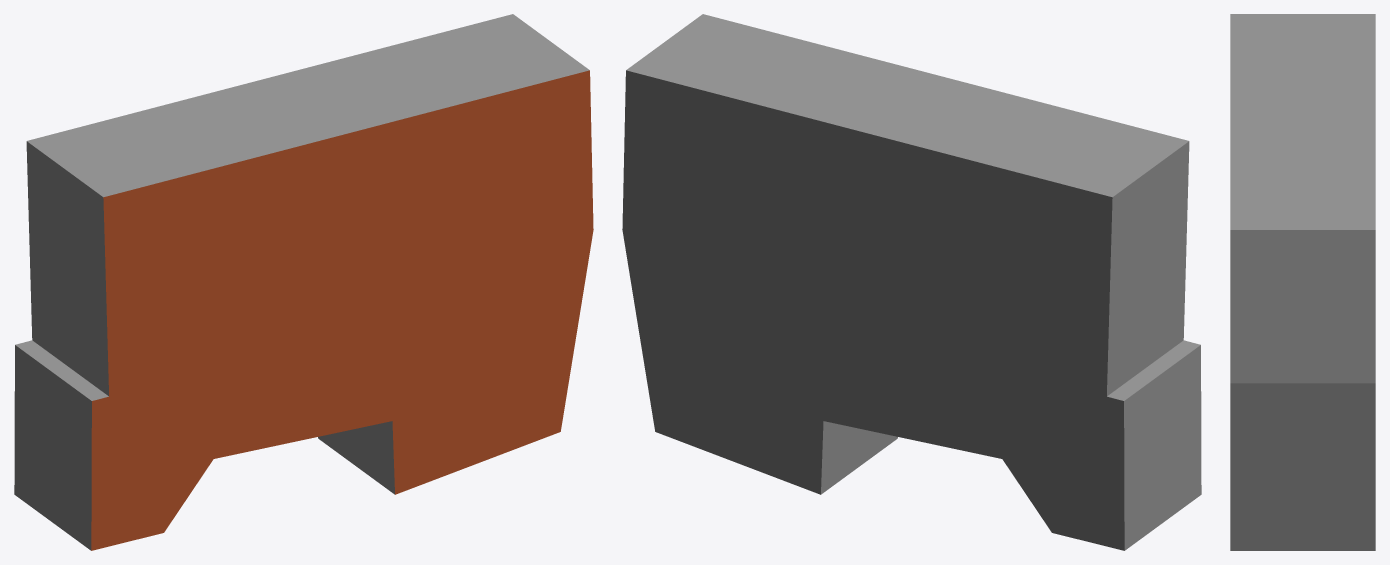
File: construction_6591_assumed_A_Casa_h6m.obj
3 views of the same model, side by side, from view 1: azimuth 30°, elevation 25°; view 2: azimuth 150°, elevation 25°; view 3: azimuth 270°, elevation 25° (orthographic). The views are drawn at different scales.
Parts seen in each view (by area): view 1: construction_6591_assumed_A_Casa; view 2: construction_6591_assumed_A_Casa; view 3: construction_6591_assumed_A_Casa.
Boxes of the visible parts, <box> form: construction_6591_assumed_A_Casa: <box>14,14,593,550</box>; construction_6591_assumed_A_Casa: <box>622,14,1201,550</box>; construction_6591_assumed_A_Casa: <box>1230,14,1375,550</box>.
Size of the model in its own units: 22.61 by 16.22 by 6.
